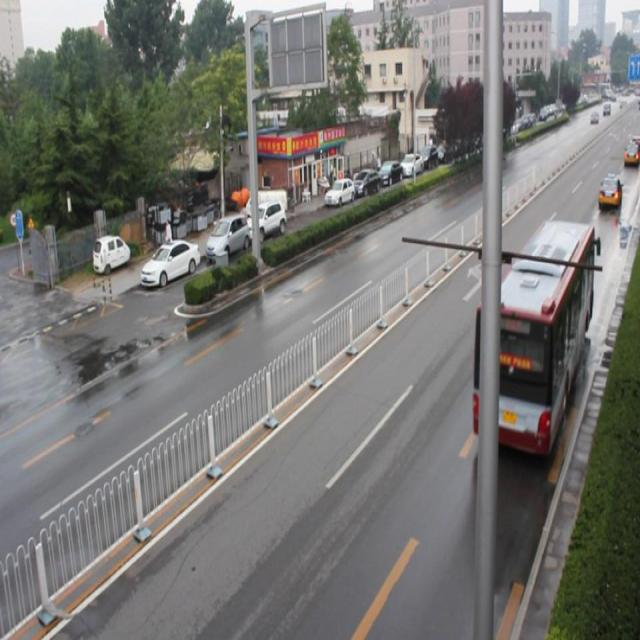car: (596, 173, 620, 209)
van: (472, 219, 598, 456)
